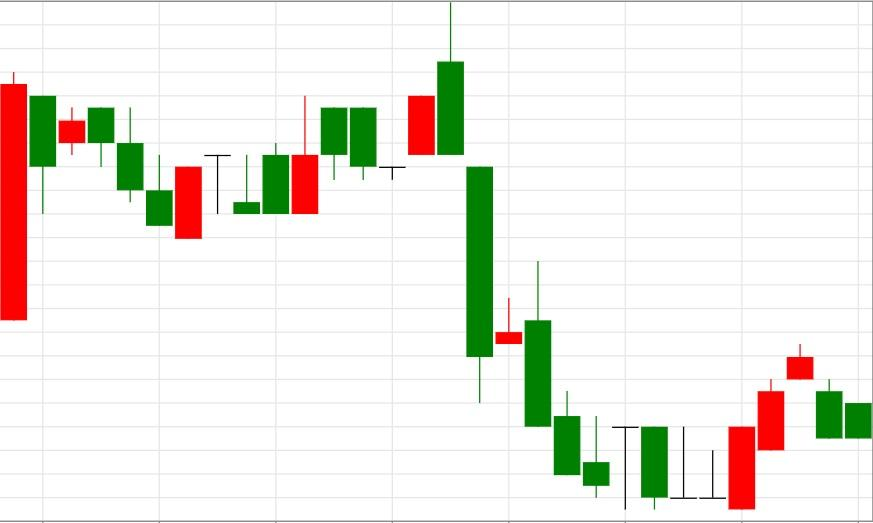bearish_engulfing_fall: (175, 1, 465, 239)
three_black_crows_fall: (0, 72, 174, 321)
